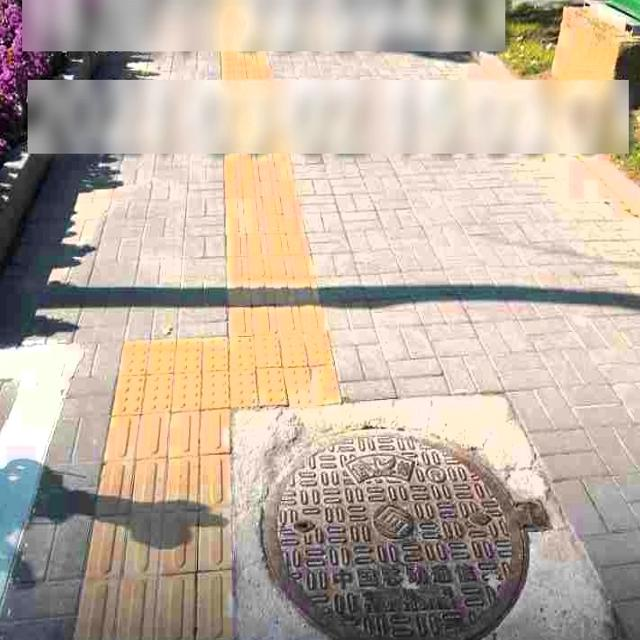good: (262, 426, 554, 640)
